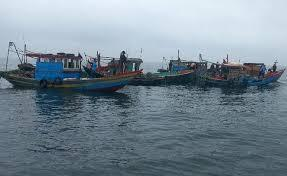Ship: (1, 53, 142, 93), (86, 52, 194, 86)
